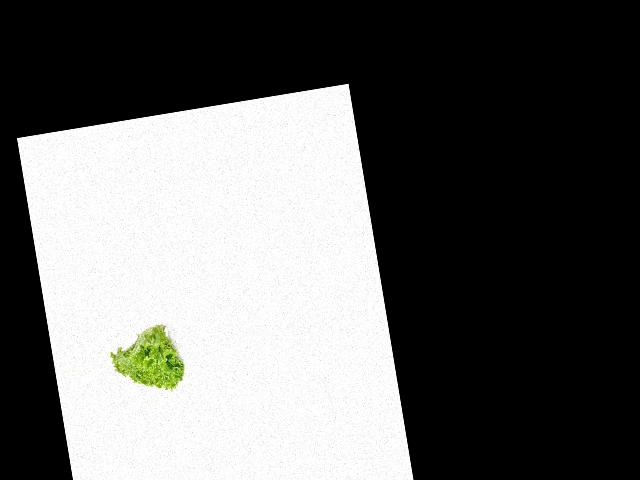lettuce: (103, 317, 188, 404)
